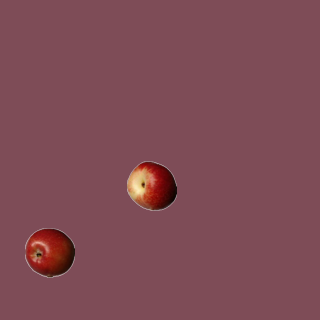Apple Braeburn: (24, 227, 74, 277)
Nectarine: (126, 160, 176, 210)
